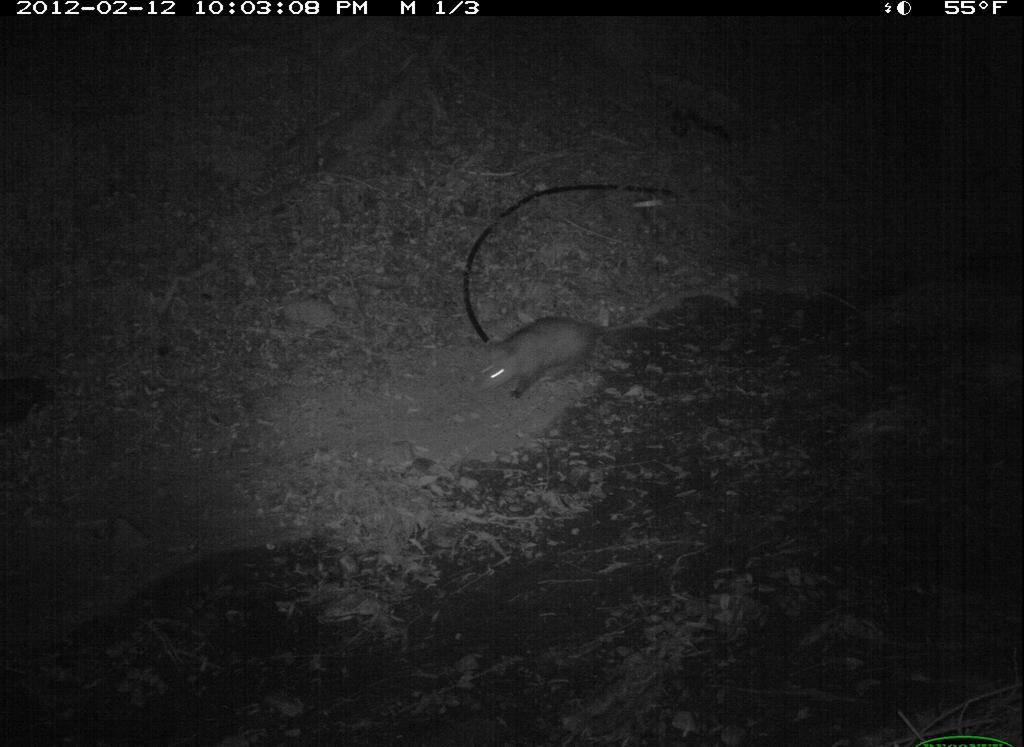opossum: (460, 313, 680, 434)
